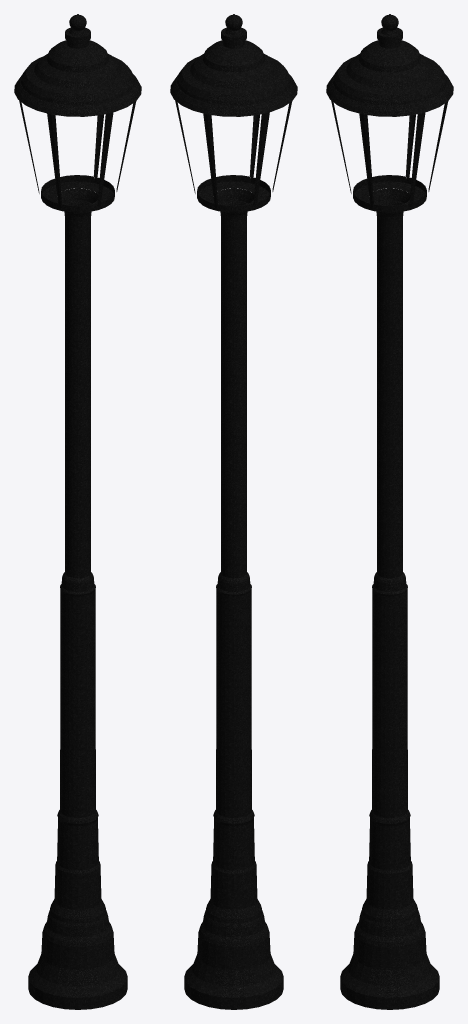
Rendered from street.glb.
3 renders of one model, left to right at view 1: azimuth 30°, elevation 25°; view 2: azimuth 210°, elevation 25°; view 3: azimuth 270°, elevation 25°, orthographic.
Visible parts, largest first — view 1: Component_; view 2: Component_; view 3: Component_.
Part boxes in pixels (bbox=[...]): Component_: bbox=[14, 14, 141, 1009]; Component_: bbox=[170, 14, 297, 1009]; Component_: bbox=[326, 14, 453, 1009].
Size of the model in its own units: 2.41 by 20.3 by 2.41.
Materials: 1 (1 with a texture image).
